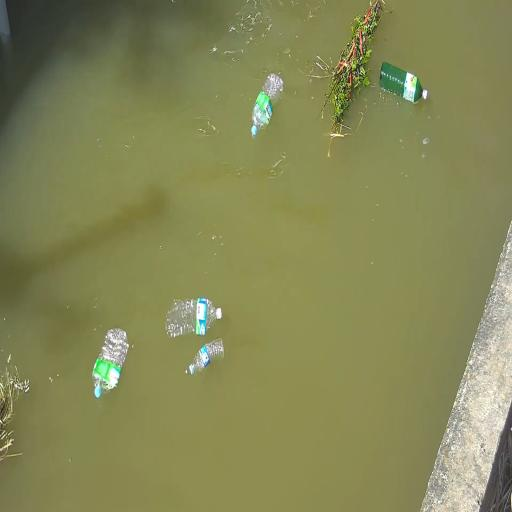plastic: (165, 292, 228, 339), (92, 324, 131, 398), (381, 57, 430, 109), (250, 74, 285, 137), (184, 338, 229, 371)
twig: (324, 0, 390, 144), (0, 362, 23, 456)
